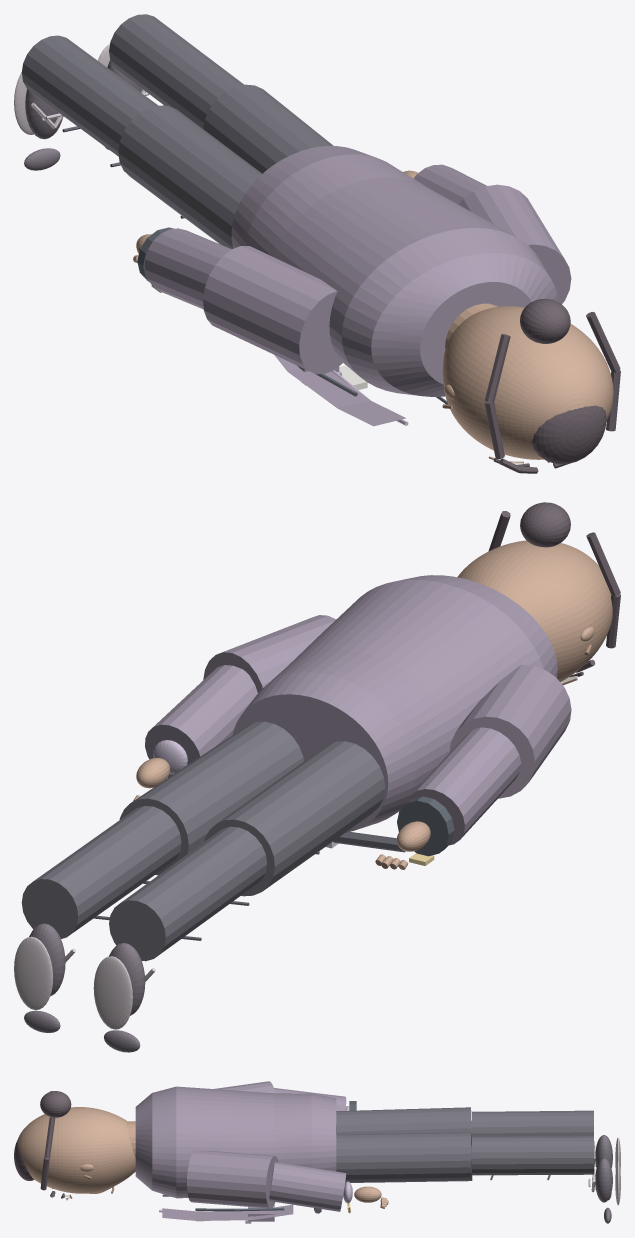
The model's file is back_office_clerk.glb.
3 views of the same model, one above another, from view 1: azimuth 30°, elevation 25°; view 2: azimuth 150°, elevation 25°; view 3: azimuth 270°, elevation 25° (orthographic). The views are drawn at different scales.
Visible parts, largest first — view 1: back_office_clerk_top, back_office_clerk_pants, back_office_clerk_skin, back_office_clerk_hair, back_office_clerk_shoe, back_office_clerk_sole, back_office_clerk_topshadow; view 2: back_office_clerk_top, back_office_clerk_pants, back_office_clerk_skin, back_office_clerk_sole, back_office_clerk_shoe, back_office_clerk_hair, back_office_clerk_topshadow, back_office_clerk_pantshadow, back_office_clerk_tophi; view 3: back_office_clerk_top, back_office_clerk_pants, back_office_clerk_skin, back_office_clerk_hair, back_office_clerk_shoe, back_office_clerk_sole, back_office_clerk_topshadow, back_office_clerk_tophi.
Boxes of the visible parts, <box> form: back_office_clerk_top: <box>145,146,571,426</box>; back_office_clerk_pants: <box>21,14,333,248</box>; back_office_clerk_skin: <box>133,170,613,459</box>; back_office_clerk_hair: <box>484,299,620,473</box>; back_office_clerk_shoe: <box>24,60,142,170</box>; back_office_clerk_sole: <box>14,44,149,134</box>; back_office_clerk_topshadow: <box>137,227,447,404</box>; back_office_clerk_top: <box>145,575,571,845</box>; back_office_clerk_pants: <box>21,721,385,961</box>; back_office_clerk_skin: <box>133,540,612,869</box>; back_office_clerk_sole: <box>14,936,155,1029</box>; back_office_clerk_shoe: <box>24,923,145,1052</box>; back_office_clerk_hair: <box>488,502,620,672</box>; back_office_clerk_topshadow: <box>397,796,454,856</box>; back_office_clerk_pantshadow: <box>94,832,405,940</box>; back_office_clerk_tophi: <box>153,740,187,774</box>; back_office_clerk_top: <box>135,1081,346,1221</box>; back_office_clerk_pants: <box>336,1107,594,1182</box>; back_office_clerk_skin: <box>17,1107,388,1208</box>; back_office_clerk_hair: <box>14,1091,71,1197</box>; back_office_clerk_shoe: <box>595,1135,612,1223</box>; back_office_clerk_sole: <box>588,1137,620,1205</box>; back_office_clerk_topshadow: <box>162,1101,356,1211</box>; back_office_clerk_tophi: <box>159,1106,352,1223</box>.
Size of the model in its own units: 0.6285 by 0.3565 by 1.67.
